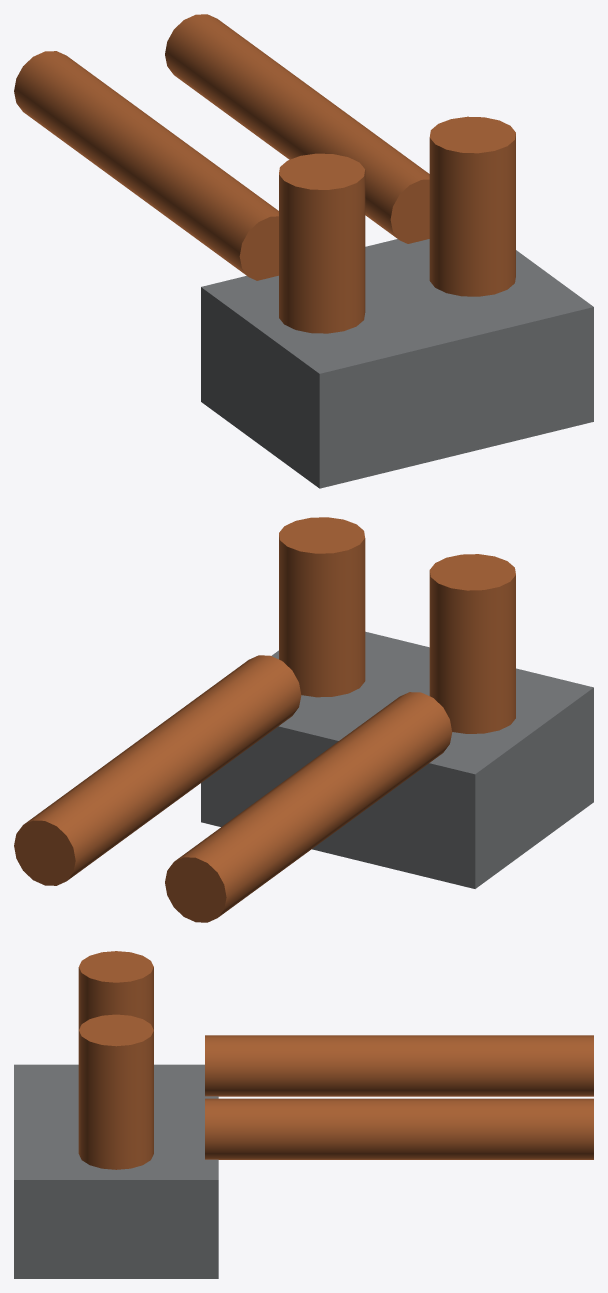
Rendered from srw_emergency_coolant.obj.
3 renders of one model, top to bottom at view 1: azimuth 30°, elevation 25°; view 2: azimuth 150°, elevation 25°; view 3: azimuth 270°, elevation 25°, orthographic. The views are drawn at different scales.
Parts seen in each view (by area): view 1: srw_emergency_coolant; view 2: srw_emergency_coolant; view 3: srw_emergency_coolant.
Boxes of the visible parts, left/top/right/bottom form: srw_emergency_coolant: left=14, top=14, right=593, bottom=488; srw_emergency_coolant: left=14, top=517, right=593, bottom=922; srw_emergency_coolant: left=14, top=951, right=593, bottom=1278.
Size of the model in its own units: 0.3353 by 0.3018 by 0.7125.
